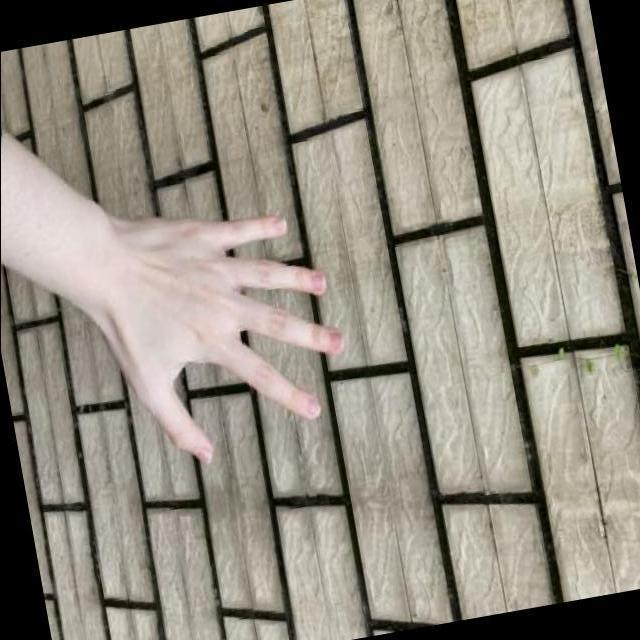hand: (71, 181, 368, 486)
